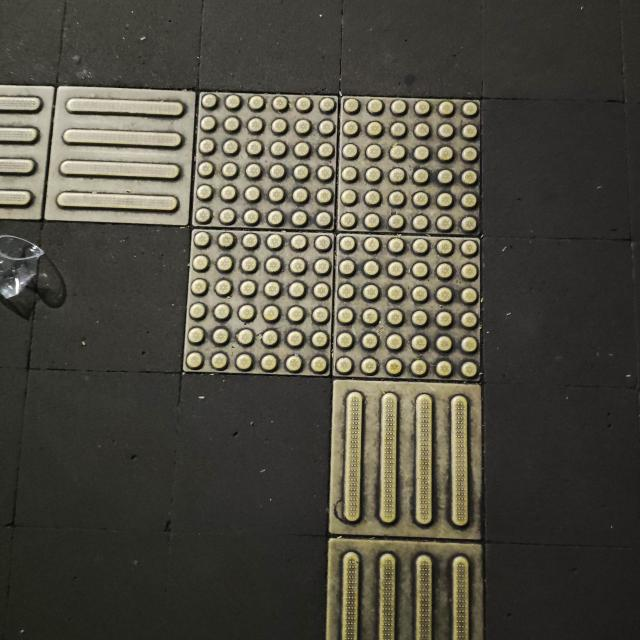kiri: (11, 82, 565, 440)
